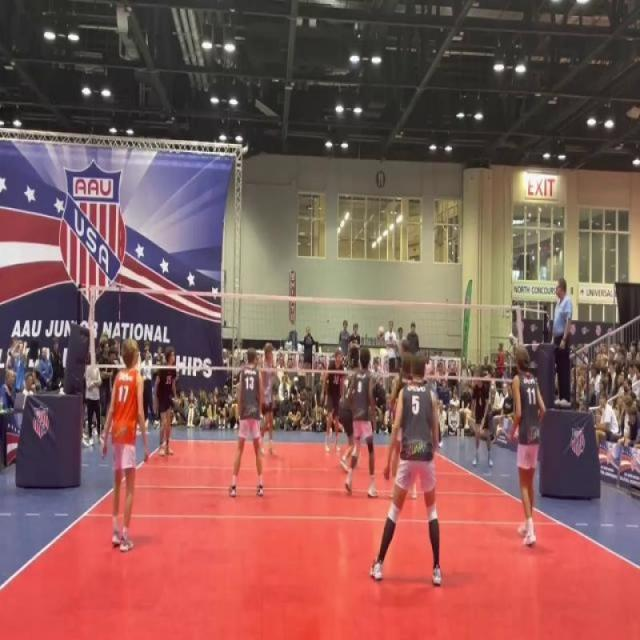volleyball: (378, 324, 386, 342)
